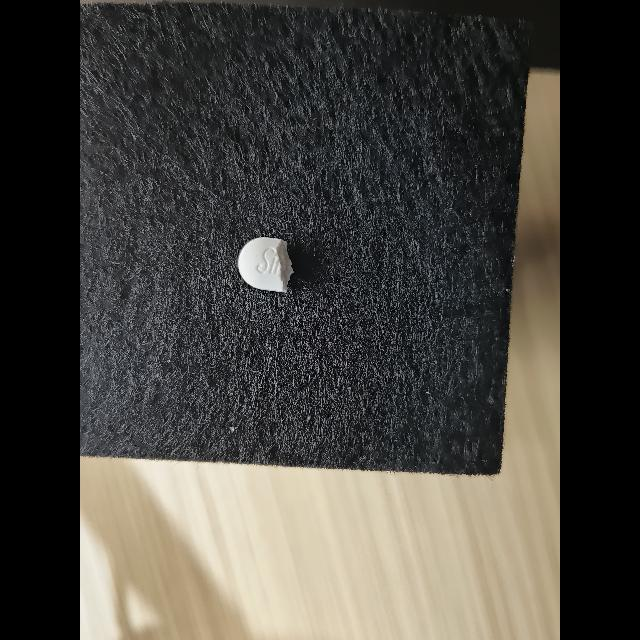Chipped Pill: (238, 237, 294, 293)
